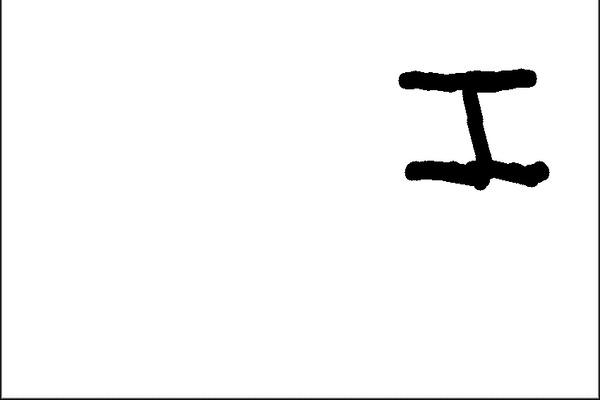i: (391, 54, 552, 190)
